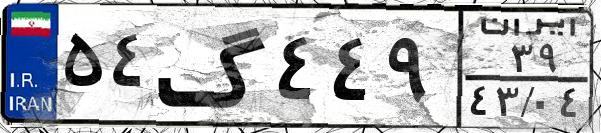0: (535, 70, 560, 125)
3: (508, 27, 537, 80), (495, 70, 520, 125)
4: (270, 28, 330, 110), (330, 28, 385, 110), (110, 28, 156, 98), (560, 70, 590, 125), (470, 70, 495, 125)
5: (57, 26, 110, 100)
9: (385, 28, 445, 110), (537, 27, 568, 80)
گ: (156, 12, 270, 120)
